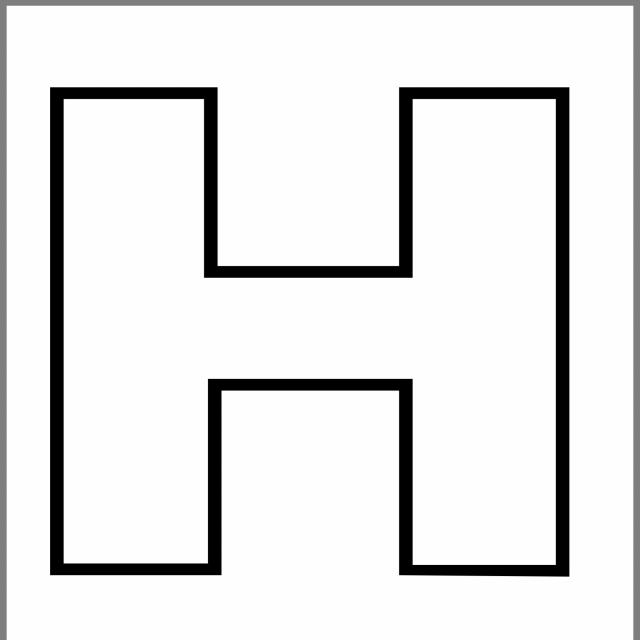H: (29, 36, 582, 605)
